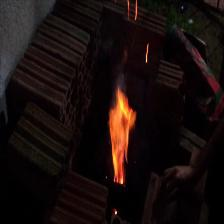fire: (104, 83, 136, 190)
